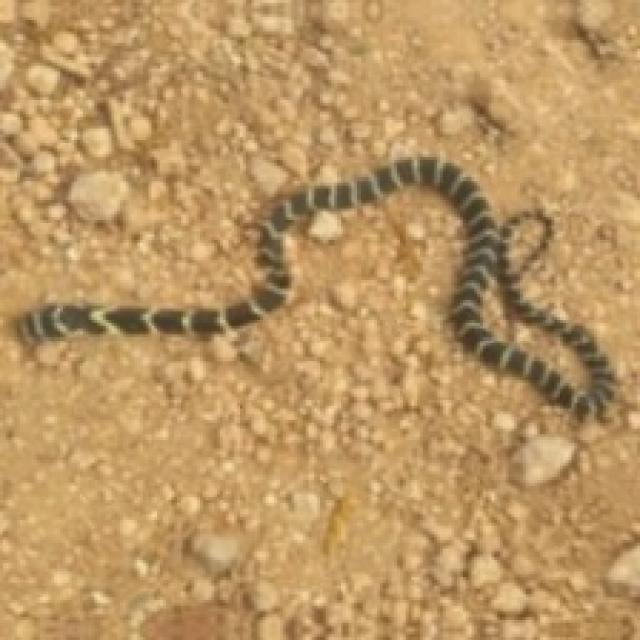king cobra: (17, 154, 614, 414)
